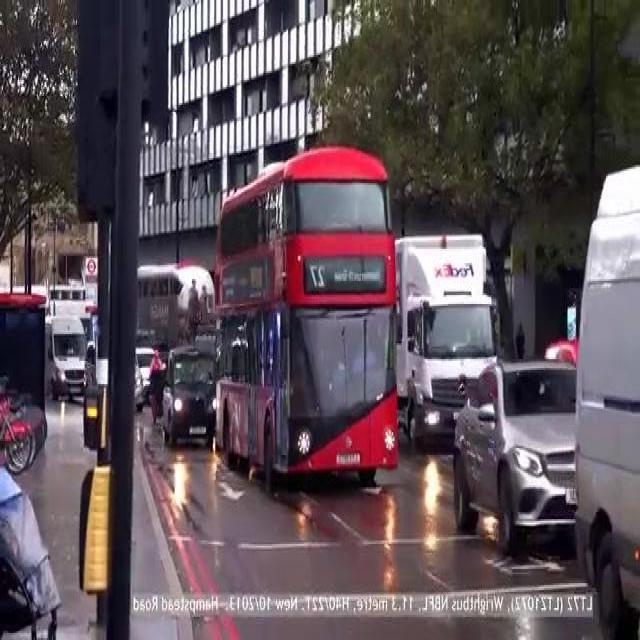bus: (202, 124, 413, 507)
car: (418, 351, 593, 560), (146, 335, 233, 444)
truck: (397, 219, 519, 453)
